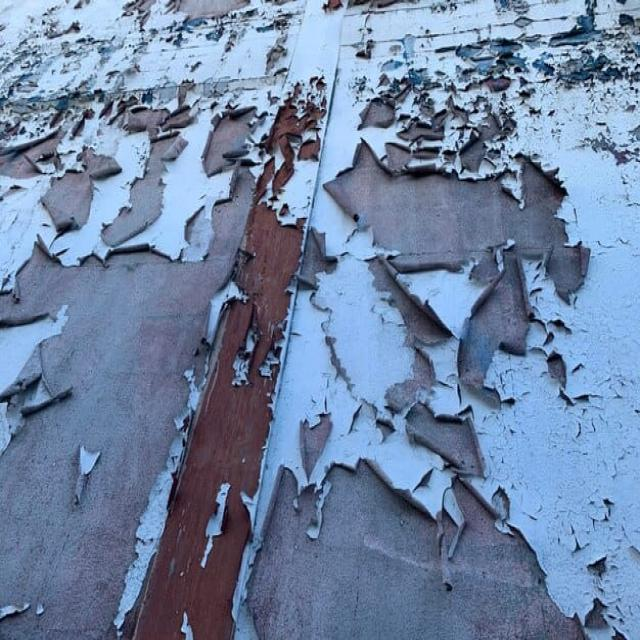Paint peeling: (277, 28, 639, 619), (6, 69, 300, 297)
